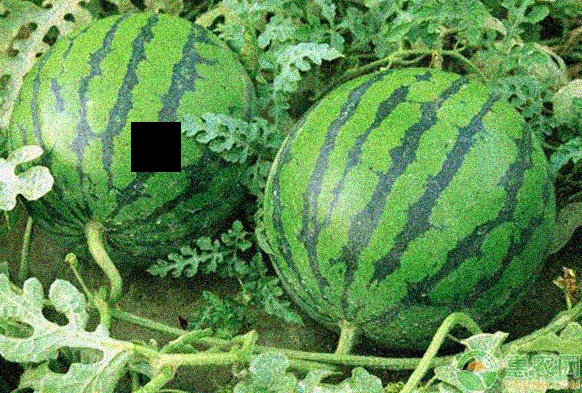watermelon: (272, 65, 558, 334), (7, 11, 255, 264)
